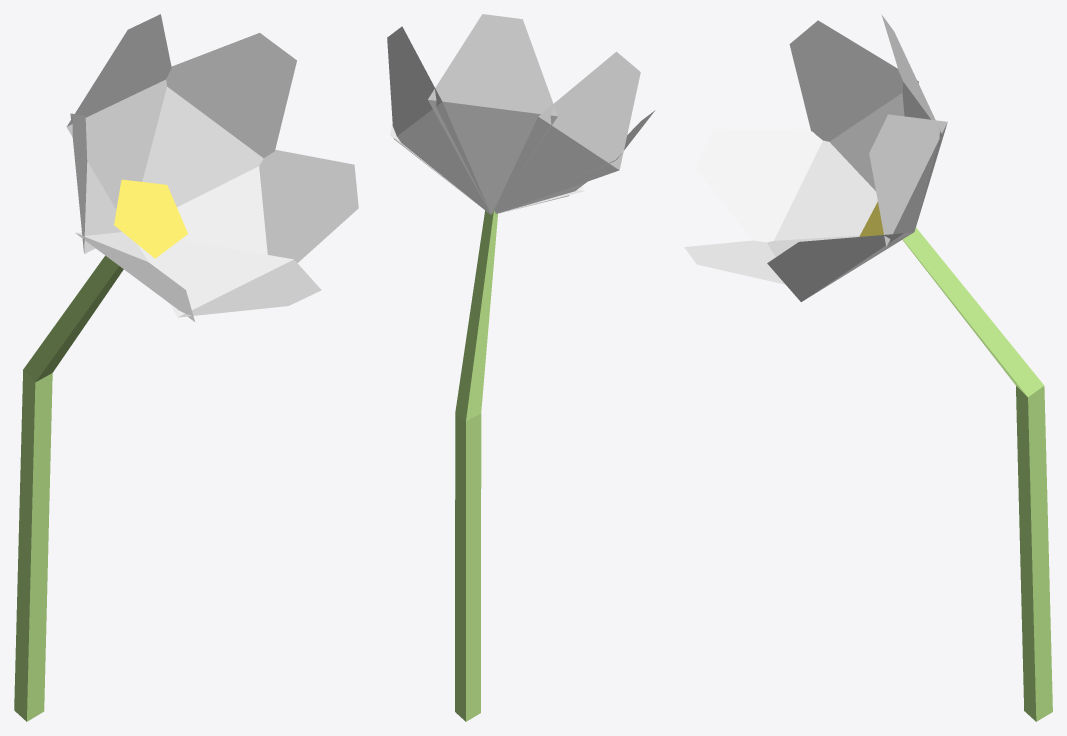
File: Flower_e_OneS_02.fbx
3 views of the same model, side by side, from view 1: azimuth 30°, elevation 25°; view 2: azimuth 150°, elevation 25°; view 3: azimuth 270°, elevation 25° (orthographic). The views are drawn at different scales.
Visible parts, largest first — view 1: Flower_e_OneS_02; view 2: Flower_e_OneS_02; view 3: Flower_e_OneS_02.
Boxes of the visible parts, x1,y1,x2,y2 form: Flower_e_OneS_02: [14, 14, 358, 721]; Flower_e_OneS_02: [387, 14, 655, 721]; Flower_e_OneS_02: [684, 14, 1052, 721].
Size of the model in its own units: 0.1444 by 0.3759 by 0.1769.
